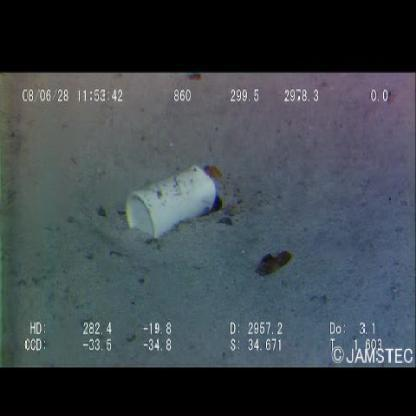Rác: (126, 166, 223, 236)
